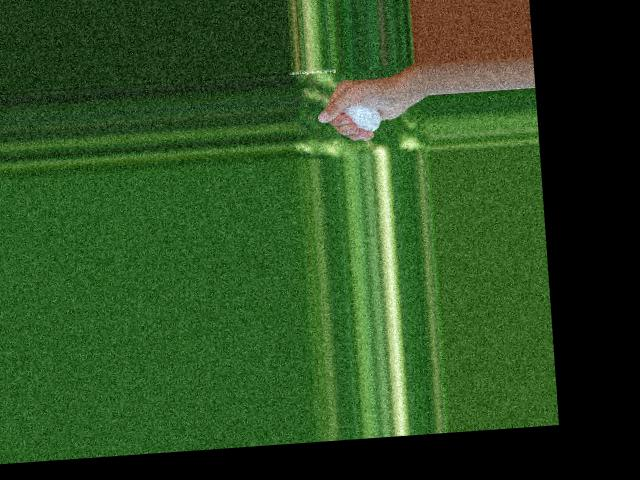egg: (342, 104, 381, 133)
